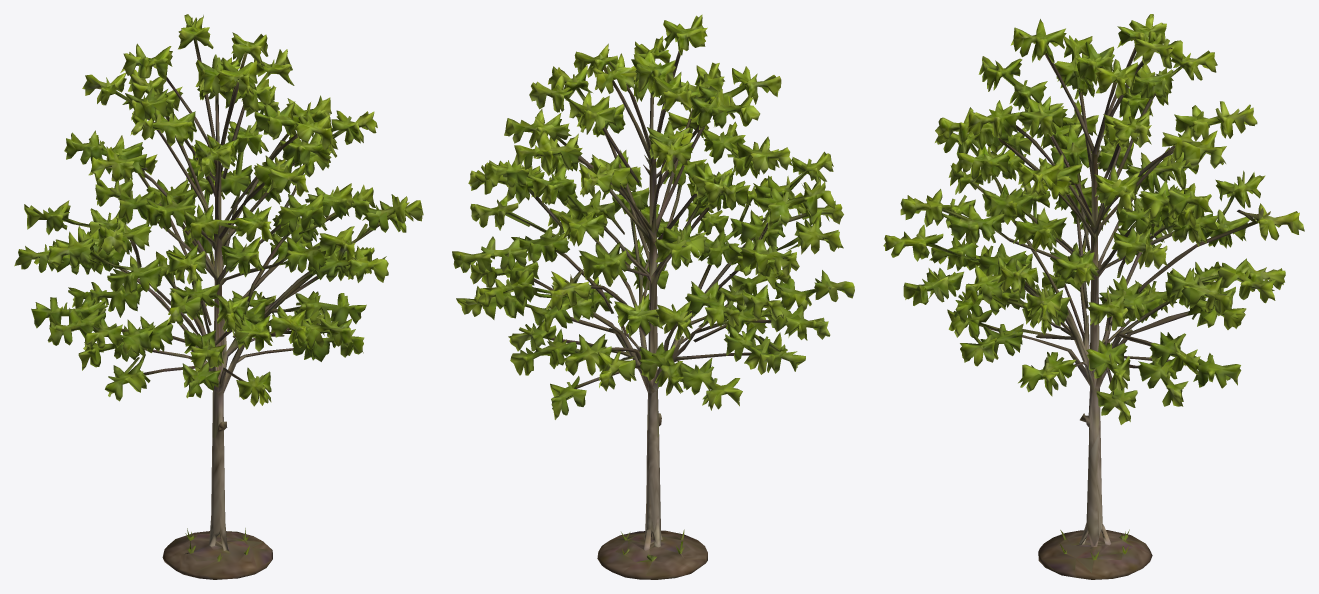
The model's file is tree_garden.glb.
3 renders of one model, left to right at view 1: azimuth 30°, elevation 25°; view 2: azimuth 150°, elevation 25°; view 3: azimuth 270°, elevation 25°, orthographic. The views are drawn at different scales.
Parts seen in each view (by area): view 1: tree_garden_hd; view 2: tree_garden_hd; view 3: tree_garden_hd.
Part boxes in pixels (box(x1,y1,x2,y2)): tree_garden_hd: box(14, 14, 423, 579); tree_garden_hd: box(452, 14, 854, 579); tree_garden_hd: box(883, 14, 1304, 579).
Size of what is drawn, in the model's own units: 2.93 by 4 by 2.91.
1 material, 1 textured.
